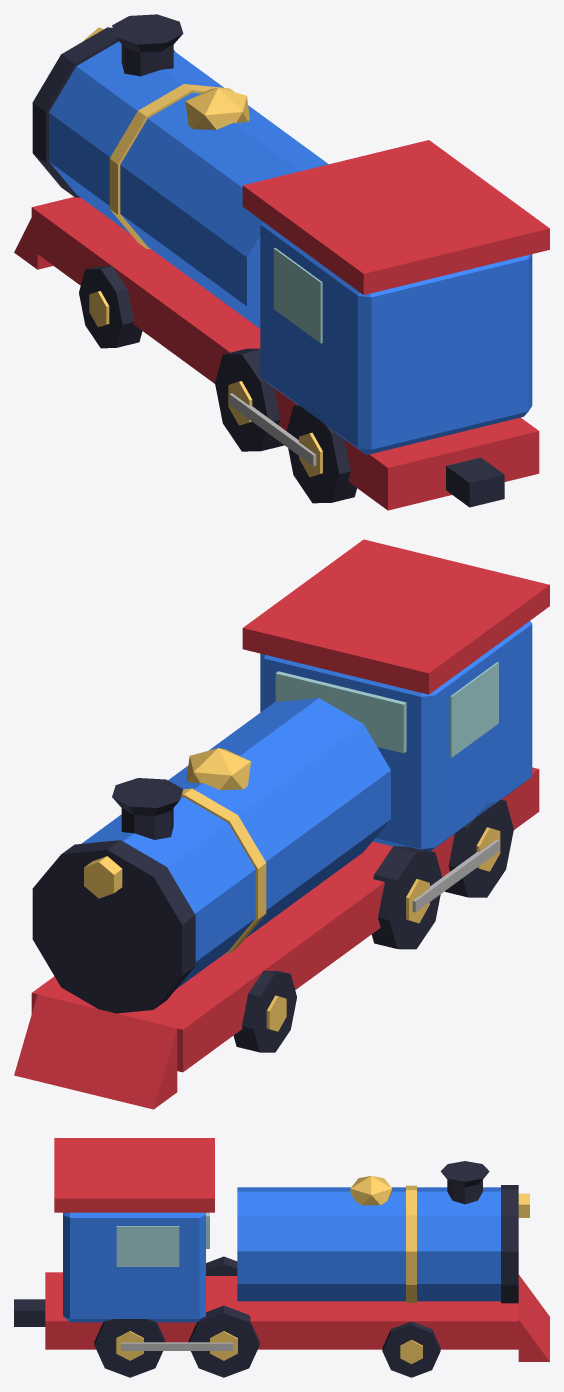
The model's file is toy_train.glb.
The picture shows the model from 3 angles, top to bottom: view 1: azimuth 30°, elevation 25°; view 2: azimuth 150°, elevation 25°; view 3: azimuth 270°, elevation 25°; orthographic projection. The views are drawn at different scales.
Visible parts, largest first — view 1: Cube.003, Cylinder.012, Cube.004, Cube, Cylinder.004, Cylinder, Cylinder.013, Cylinder.008, Cube.005, Cylinder.014, Cube.007, Icosphere (+6 smaller); view 2: Cylinder.012, Cube.004, Cube.003, Cylinder.013, Cube, prism, Cylinder.004, Cube.006, Cylinder, Cylinder.008, Cube.005, Cylinder.014 (+5 smaller); view 3: Cylinder.012, Cube, Cube.003, Cube.004, Cylinder.006, Cube.005, Cylinder.002, prism, Cylinder.013, Cylinder.010, Cylinder.014, Icosphere (+8 smaller).
Boxes of the visible parts, x1,y1,x2,y2 form: Cube.003: (260, 221, 532, 454); Cylinder.012: (49, 41, 328, 328); Cube.004: (242, 140, 549, 294); Cube: (31, 197, 539, 510); Cylinder.004: (215, 348, 284, 451); Cylinder: (286, 405, 356, 503); Cylinder.013: (32, 27, 175, 197); Cylinder.008: (79, 266, 142, 348); Cube.005: (273, 248, 322, 343); Cylinder.014: (109, 84, 234, 249); Cube.007: (446, 457, 504, 507); Icosphere: (185, 88, 249, 129); Cylinder.012: (81, 698, 390, 988); Cube.004: (242, 539, 549, 694); Cube.003: (260, 621, 532, 851); Cylinder.013: (32, 840, 195, 1013); Cube: (31, 767, 539, 1072); prism: (14, 994, 177, 1109); Cylinder.004: (371, 846, 442, 949); Cube.006: (275, 671, 406, 753); Cylinder: (445, 799, 513, 897); Cylinder.008: (233, 970, 296, 1052); Cube.005: (450, 662, 498, 757); Cylinder.014: (181, 788, 266, 953); Cylinder.012: (237, 1187, 500, 1301); Cube: (45, 1272, 518, 1349); Cube.003: (63, 1212, 205, 1322); Cube.004: (54, 1138, 214, 1212); Cylinder.006: (188, 1305, 259, 1377); Cube.005: (116, 1226, 179, 1266); Cylinder.002: (94, 1319, 165, 1377); prism: (518, 1274, 549, 1361); Cylinder.013: (501, 1185, 518, 1303); Cylinder.010: (382, 1321, 440, 1377); Cylinder.014: (406, 1185, 416, 1302); Icosphere: (350, 1176, 392, 1205).
Size of the model in its own units: 3.2 by 4.48 by 12.
